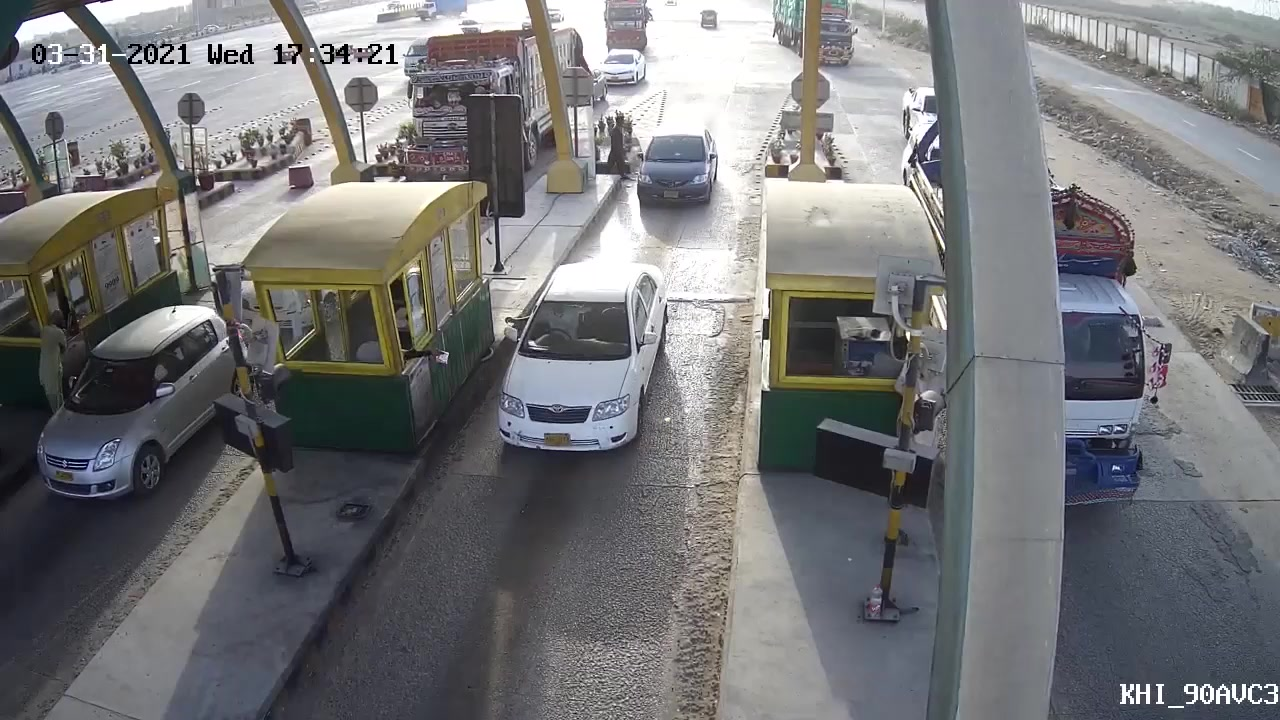F1: (491, 260, 676, 464)
